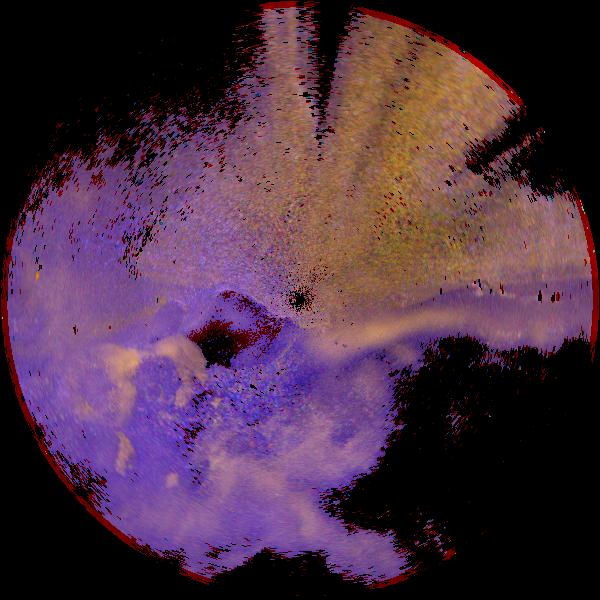roost: (52, 341, 145, 434), (124, 427, 196, 499), (74, 411, 143, 480)
